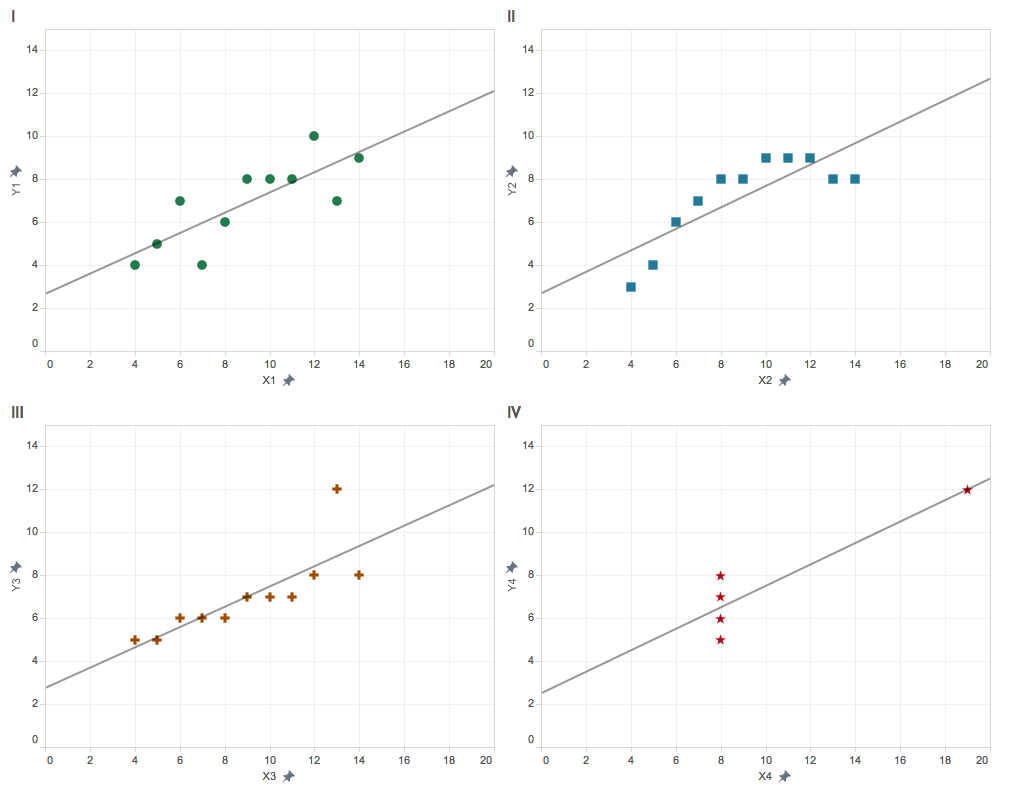

This screenshot's page, from the dashboard's own definition file:
{"tool":"tableau","page":{"name":"Plots","canvas":[1000,800],"ordinal":0},"visuals":[{"type":"worksheet","title":"Plot I","mark":"Automatic","rows":["F3"],"cols":["F2"],"box":[0,0,500,400]},{"type":"worksheet","title":"Plot II","mark":"Automatic","rows":["F5"],"cols":["F4"],"box":[500,0,500,400]},{"type":"worksheet","title":"Plot III","mark":"Automatic","rows":["F7"],"cols":["F6"],"box":[0,400,500,400]},{"type":"worksheet","title":"Plot IV","mark":"Automatic","rows":["F9"],"cols":["F8"],"box":[500,400,500,400]}]}

Visuals, with their boxes in screenshot pixels (x1, y1, x2, y2), scaled from the page's 1000x800 canvas onto the 1018x796 screenshot:
"Plot I" worksheet: <bbox>0, 0, 509, 398</bbox>
"Plot II" worksheet: <bbox>509, 0, 1017, 398</bbox>
"Plot III" worksheet: <bbox>0, 398, 509, 795</bbox>
"Plot IV" worksheet: <bbox>509, 398, 1017, 795</bbox>
